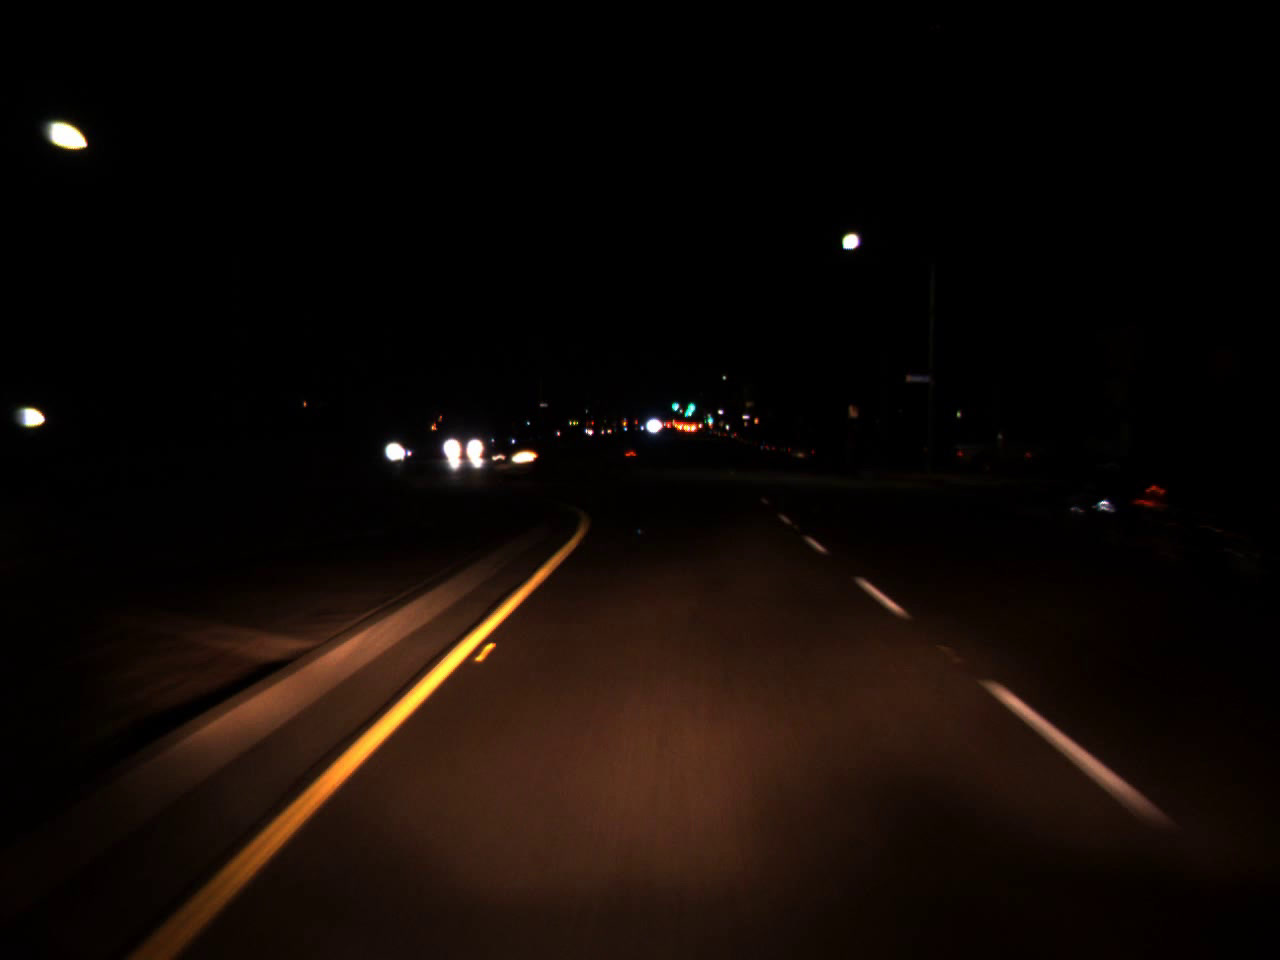go: (684, 394, 696, 415), (670, 392, 677, 413), (703, 410, 713, 425)
